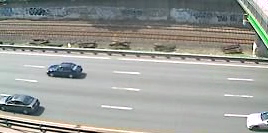car: (1, 93, 42, 117), (45, 60, 85, 81)
